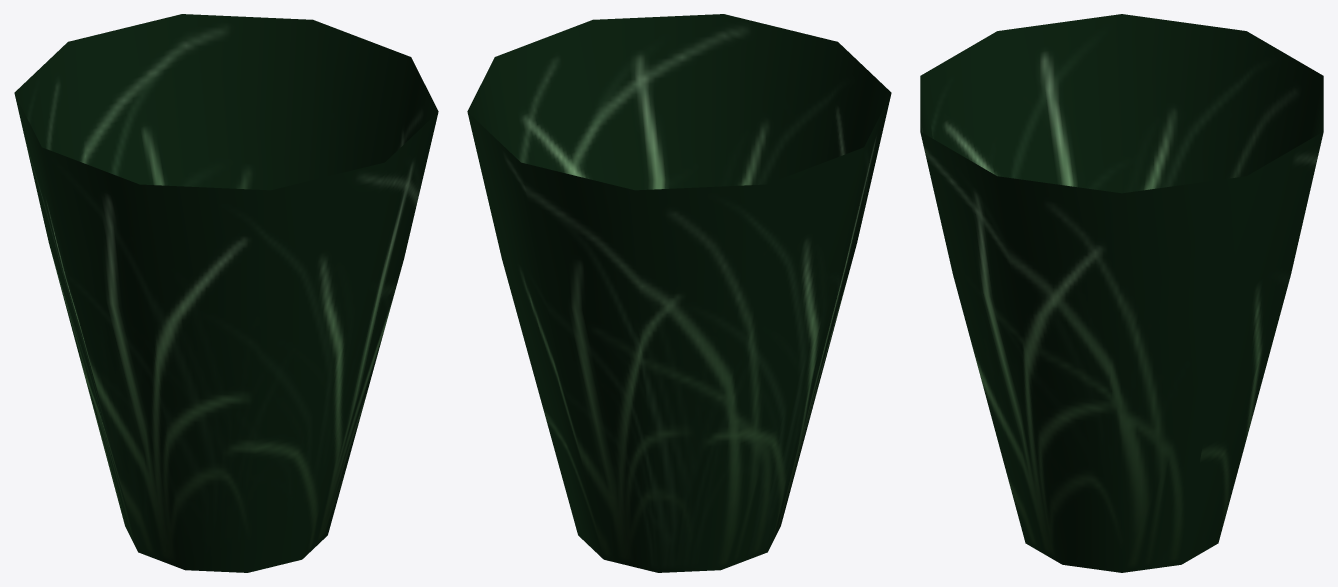
Rendered from grassBunchBig2.fbx.
3 renders of one model, left to right at view 1: azimuth 30°, elevation 25°; view 2: azimuth 150°, elevation 25°; view 3: azimuth 270°, elevation 25°, orthographic.
Parts seen in each view (by area): view 1: grassBunchBig2Object2; view 2: grassBunchBig2Object2; view 3: grassBunchBig2Object2.
Part boxes in pixels (left/top/right/bottom): grassBunchBig2Object2: left=14, top=14, right=438, bottom=572; grassBunchBig2Object2: left=467, top=14, right=891, bottom=572; grassBunchBig2Object2: left=920, top=14, right=1323, bottom=572.
Bounding box in the file's own units: 0.4864 × 0.5393 × 0.4626.
1 material, 1 textured.
